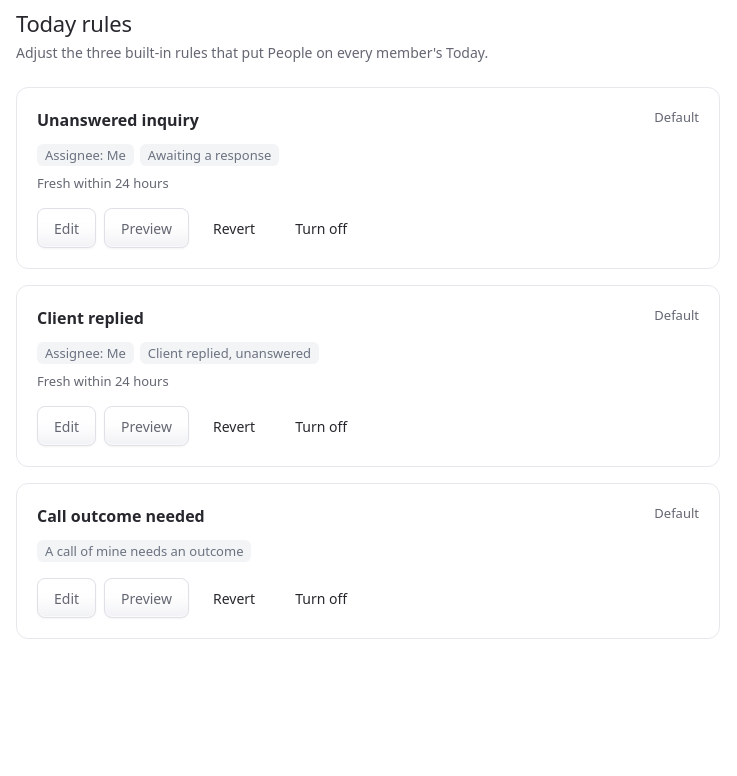
TodayFeedsView editor locking (SLICE_011d §1 rules 3-4) › locks the anchor clause and the `me` assignee for a person-state feed
This screenshot has width=737, height=776.
Click the button with test id "feed-edit-unanswered_inquiry" at (67,228), box [37,208,96,248]
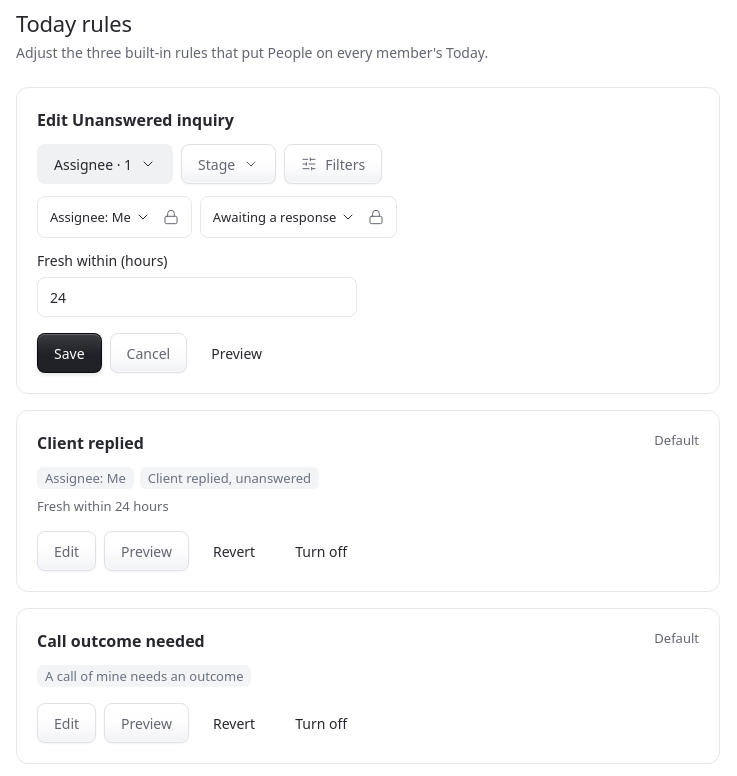
Result: the element with test id "filter-chip-locked-awaiting_response" is shown at [368,197,396,237]
Result: the element with test id "filter-chip-locked-assigned_to" is shown at [163,197,191,237]
